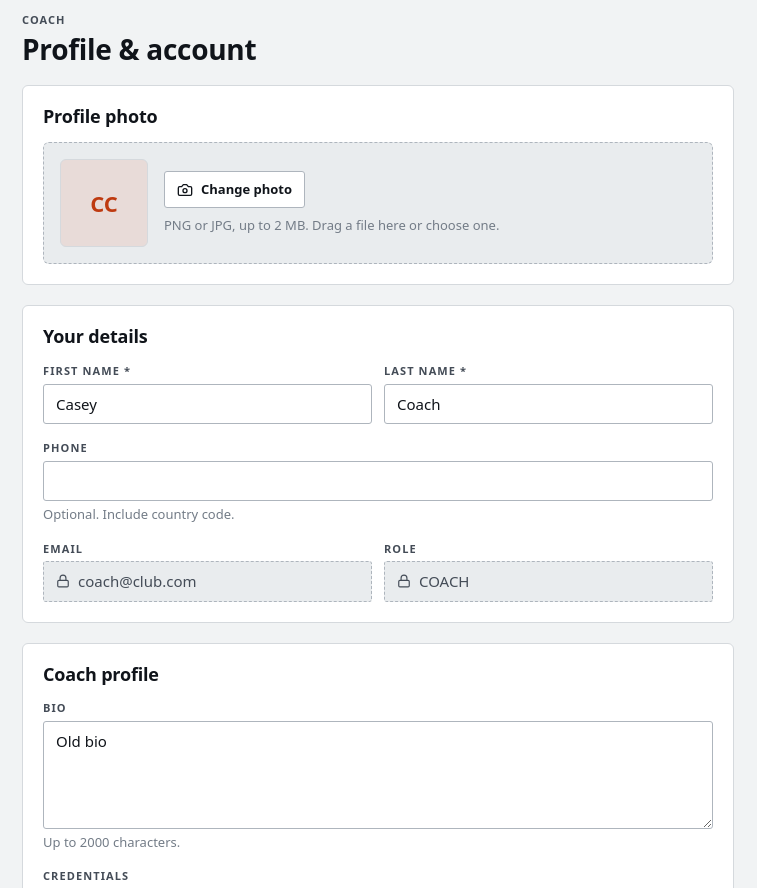
Scenario: ProfileSettings (FR-038 role-shaped, FR-032 coach visibility) › shows the save bar only when dirty, then a saved confirmation
Expected: the field labelled "First name *" is shown, [43,384,372,424]
Expected: the button "save changes" is not shown
Step 1. Type "X" into the field labelled "Last name *" → x=548, y=404, box [384,384,713,424]
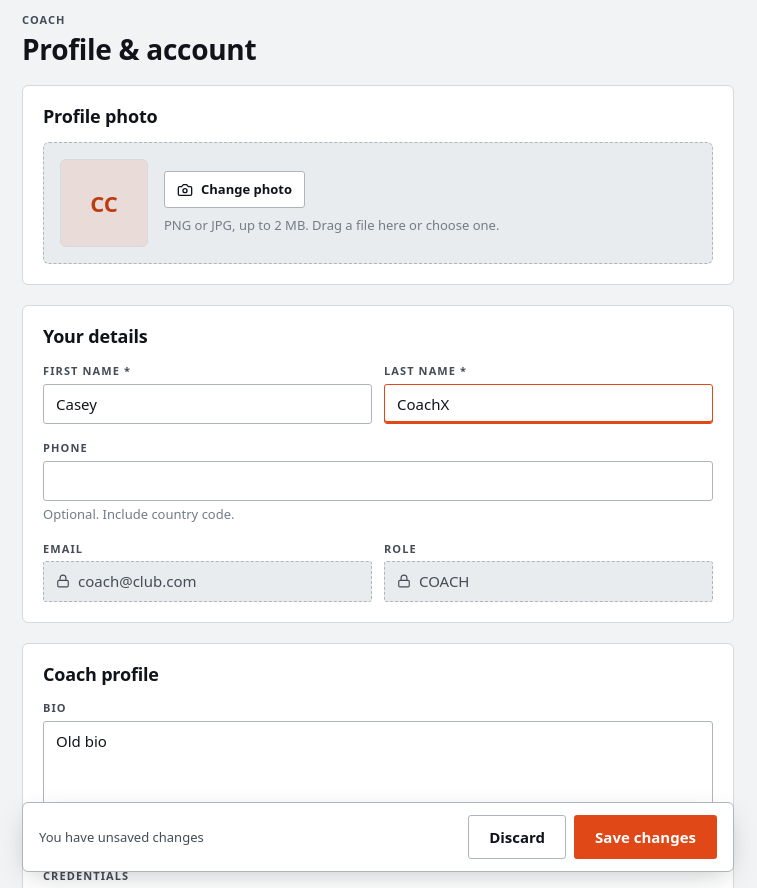
Expected: the text "You have unsaved changes" is shown, [39,827,204,847]
Step 2. Click the button "Save changes" → x=646, y=837, box [574,815,717,859]
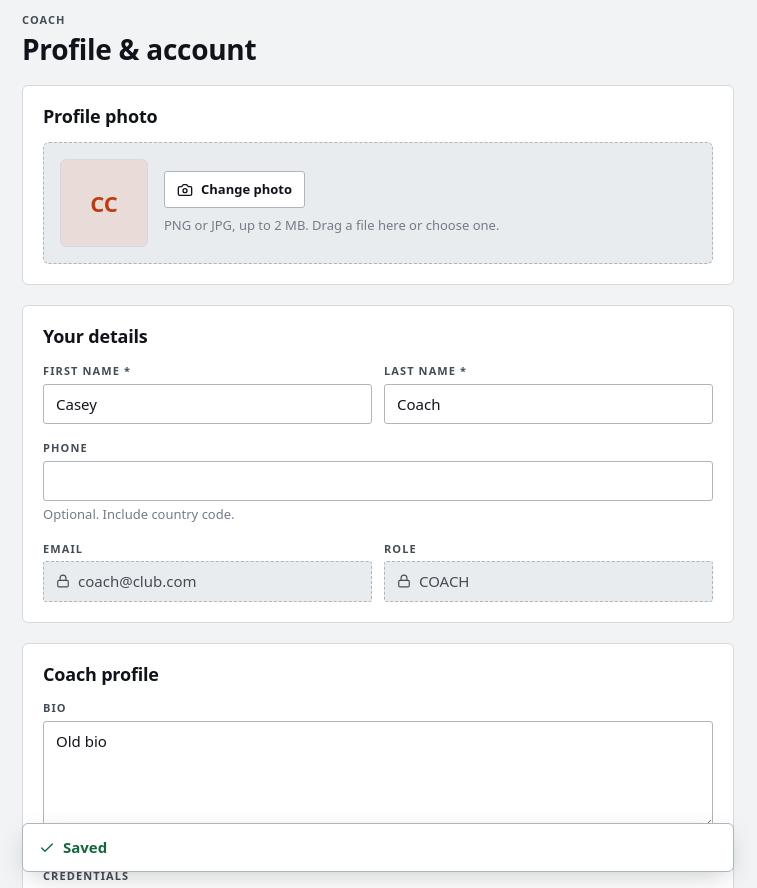
Expected: the text "Saved" is shown, [39,836,107,859]
